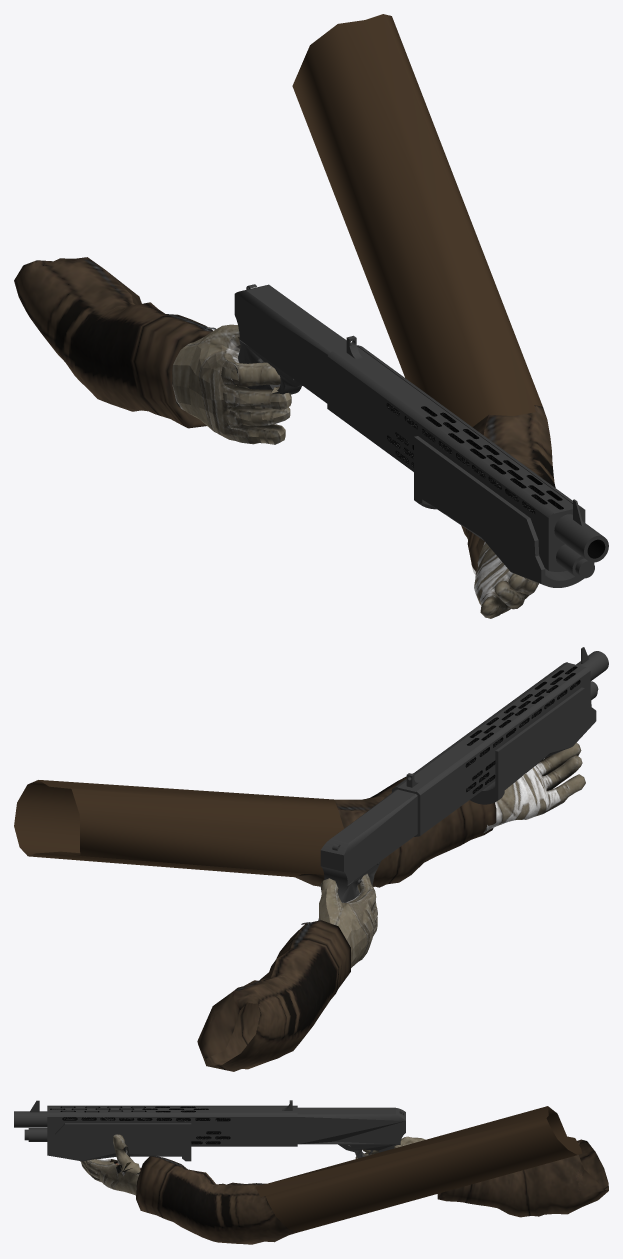
The model's file is ArmHamPumpFusil.dae.
3 views of the same model, one above another, from view 1: azimuth 30°, elevation 25°; view 2: azimuth 150°, elevation 25°; view 3: azimuth 270°, elevation 25° (orthographic). The views are drawn at different scales.
Parts seen in each view (by area): view 1: group_12, group_1 (×3), _3DGeom_5_Defintion (×2), group_7, group_11, _3DGeom_6_Defintion; view 2: group_12, _3DGeom_5_Defintion (×2), group_1 (×3), group_7, group_11; view 3: group_12, _3DGeom_5_Defintion (×2), group_1 (×4), group_7, group_11.
Part boxes in pixels (x1,y1,x2,y2): group_12: (292, 14, 542, 426); group_1 (×3): (232, 284, 608, 571); _3DGeom_5_Defintion (×2): (14, 257, 555, 571); group_7: (414, 436, 584, 587); group_11: (471, 542, 538, 618); _3DGeom_6_Defintion: (232, 362, 280, 386); group_12: (14, 780, 343, 877); _3DGeom_5_Defintion (×2): (197, 773, 496, 1071); group_1 (×3): (318, 647, 608, 920); group_7: (470, 687, 596, 804); group_11: (484, 742, 585, 832); group_12: (255, 1106, 582, 1232); _3DGeom_5_Defintion (×2): (136, 1139, 608, 1244); group_1 (×4): (14, 1100, 405, 1158); group_7: (47, 1123, 191, 1161); group_11: (80, 1134, 141, 1195).
Size of the model in its own units: 26.59 by 69.67 by 22.32.
